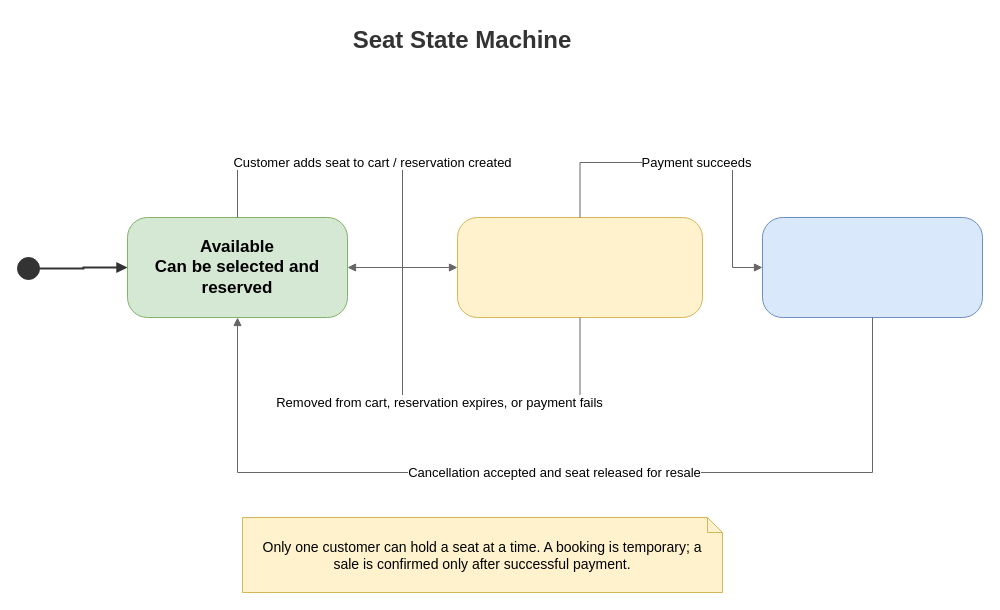
The diagram is 1000 pixels wide and 610 high, and some of its shapes have lost their labels. The centre of each missing label's shape, as x and y in pixels:
Booked Temporarily held in a customer's cart: the point at 579,267
Sold Payment succeeded; ticket issued: the point at 872,267
